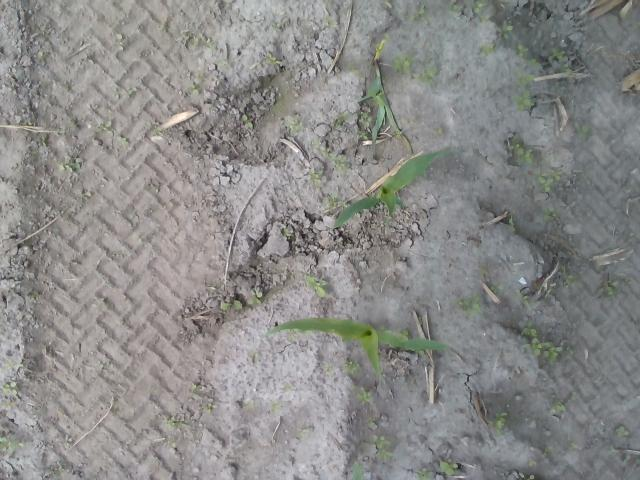Maize: (267, 312, 453, 384), (336, 150, 441, 235), (352, 58, 417, 152)
Weeds: (524, 320, 562, 363), (509, 138, 543, 167), (300, 268, 330, 299), (370, 430, 394, 463), (162, 405, 190, 433), (329, 152, 358, 179), (540, 394, 572, 418), (538, 168, 564, 195), (320, 359, 363, 373), (456, 294, 482, 317), (518, 42, 540, 66), (492, 22, 514, 46), (308, 138, 332, 159), (220, 297, 246, 316), (573, 121, 595, 143), (610, 420, 630, 444), (514, 86, 531, 114), (558, 270, 584, 288), (0, 433, 22, 454), (56, 158, 81, 176), (471, 1, 492, 22), (481, 36, 501, 58), (600, 280, 620, 300), (512, 290, 537, 306), (358, 386, 377, 407), (188, 376, 212, 392), (246, 285, 264, 306), (437, 461, 462, 476), (95, 120, 118, 136), (0, 380, 19, 399), (144, 118, 164, 136), (515, 70, 535, 88), (394, 51, 411, 72), (541, 205, 559, 224), (423, 66, 441, 84), (284, 115, 302, 133), (264, 51, 282, 68), (492, 413, 511, 429), (238, 114, 256, 130), (408, 6, 426, 22), (416, 467, 438, 480), (446, 0, 464, 15), (550, 46, 566, 62), (308, 169, 323, 185), (188, 82, 202, 99), (356, 112, 369, 130), (26, 290, 42, 304), (116, 134, 130, 148), (526, 456, 540, 469), (38, 134, 51, 147), (564, 440, 578, 452), (120, 86, 136, 96), (280, 228, 293, 240), (334, 117, 344, 132), (206, 403, 217, 412), (435, 128, 444, 137)
